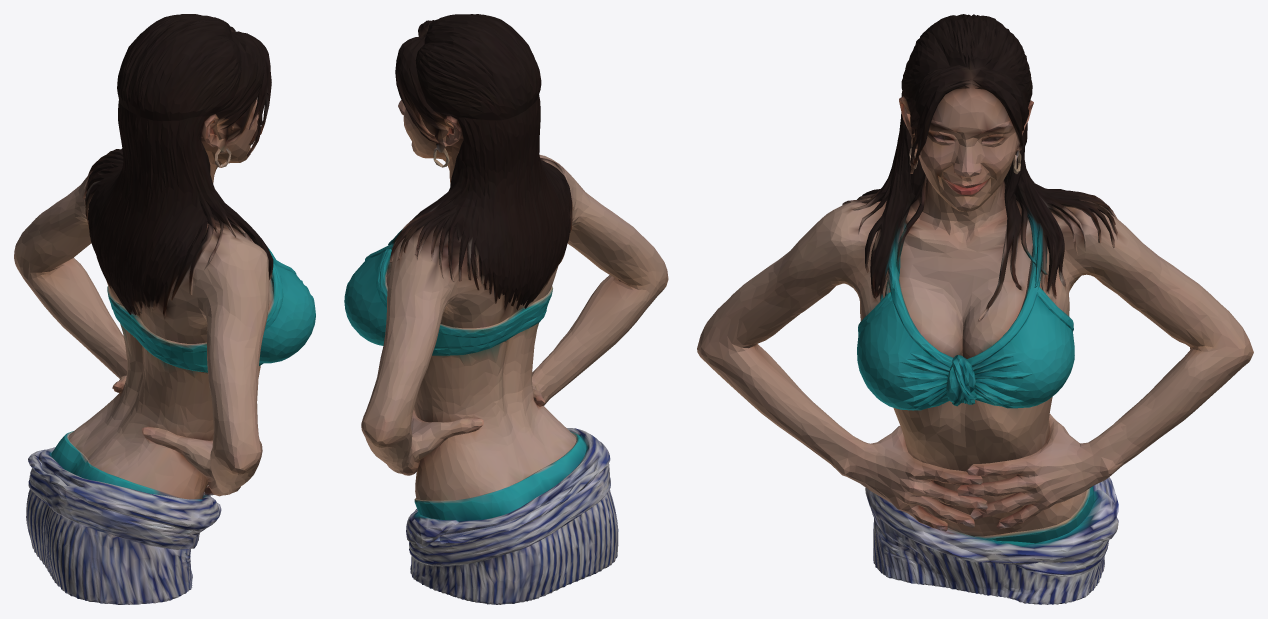
File: tripo_convert_26f90f07-3a28-455c-b87e-bfdc46d655f6.obj
The picture shows the model from 3 angles, left to right: view 1: azimuth 30°, elevation 25°; view 2: azimuth 150°, elevation 25°; view 3: azimuth 270°, elevation 25°; orthographic projection. The views are drawn at different scales.
Visible parts, largest first — view 1: tripo_node_26f90f07-3a28-455c-b87e-bfdc46d655f6; view 2: tripo_node_26f90f07-3a28-455c-b87e-bfdc46d655f6; view 3: tripo_node_26f90f07-3a28-455c-b87e-bfdc46d655f6.
Part boxes in pixels (x1,y1,x2,y2): tripo_node_26f90f07-3a28-455c-b87e-bfdc46d655f6: (14, 14, 315, 604); tripo_node_26f90f07-3a28-455c-b87e-bfdc46d655f6: (344, 14, 668, 604); tripo_node_26f90f07-3a28-455c-b87e-bfdc46d655f6: (697, 14, 1253, 604).
Bounding box in the file's own units: 0.4675 × 0.9803 × 0.8628.
